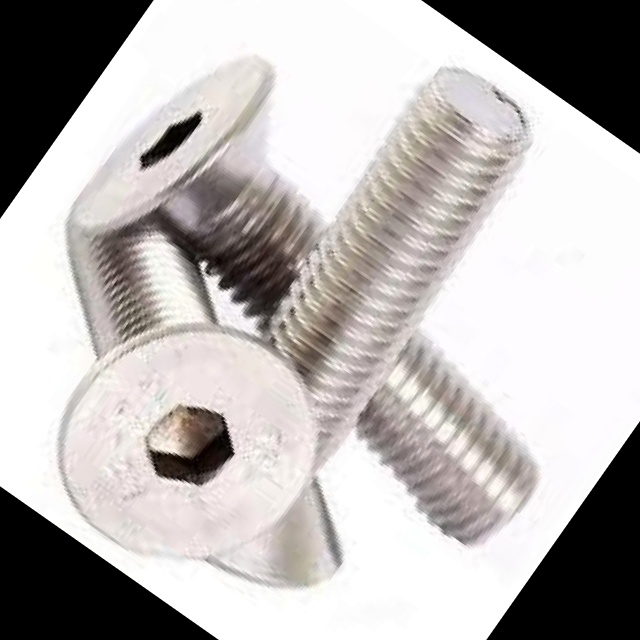allen: (19, 269, 364, 616), (59, 12, 288, 278)
